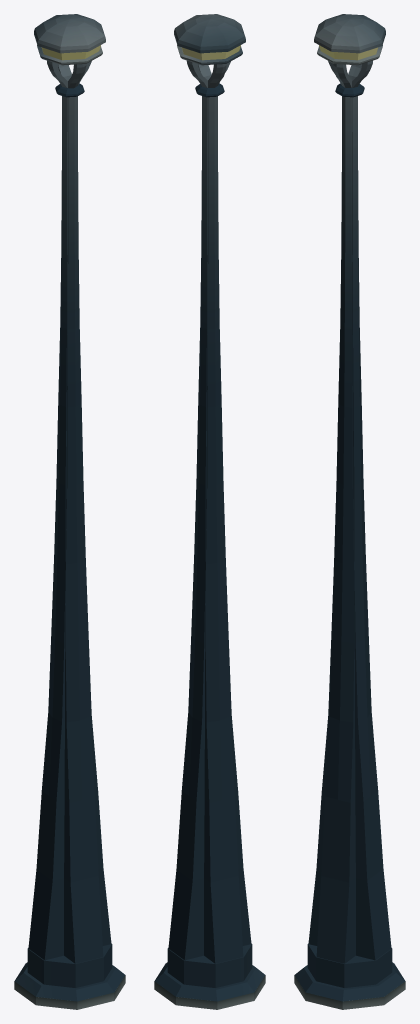
File: lamp_Post-Present.fbx
3 views of the same model, side by side, from view 1: azimuth 30°, elevation 25°; view 2: azimuth 210°, elevation 25°; view 3: azimuth 330°, elevation 25° (orthographic).
Visible parts, largest first — view 1: Pole, Pole.001, Base, Lamp; view 2: Pole, Pole.001, Base, Lamp; view 3: Pole, Pole.001, Base, Lamp.
Part boxes in pixels (x1,y1,x2,y2): Pole: [58, 64, 103, 963]; Pole.001: [28, 60, 111, 960]; Base: [14, 943, 125, 1009]; Lamp: [34, 14, 105, 65]; Pole: [198, 64, 243, 963]; Pole.001: [168, 60, 251, 960]; Base: [154, 943, 265, 1009]; Lamp: [174, 14, 245, 65]; Pole: [316, 64, 361, 963]; Pole.001: [308, 60, 391, 960]; Base: [294, 943, 405, 1009]; Lamp: [314, 14, 385, 65].
Bounding box in the file's own units: 38.25 × 394 × 38.25.
